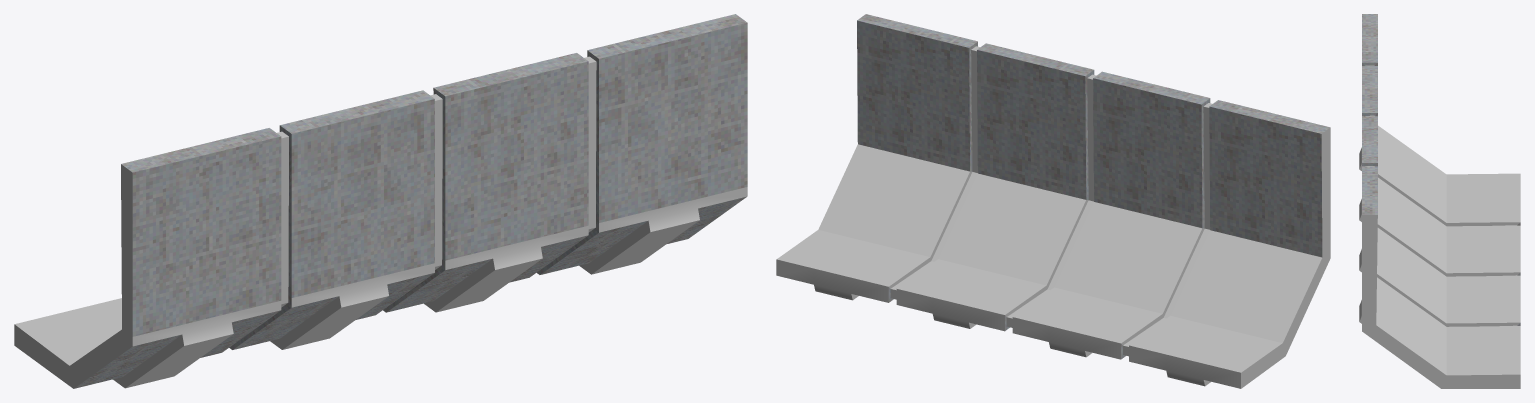
Rendered from shiphullchunk.fbx.
The picture shows the model from 3 angles, left to right: view 1: azimuth 30°, elevation 25°; view 2: azimuth 150°, elevation 25°; view 3: azimuth 270°, elevation 25°; orthographic projection. The views are drawn at different scales.
Parts seen in each view (by area): view 1: geo_shiphullchunk; view 2: geo_shiphullchunk; view 3: geo_shiphullchunk.
Part boxes in pixels (x1,y1,x2,y2): geo_shiphullchunk: [14, 14, 747, 388]; geo_shiphullchunk: [776, 14, 1330, 388]; geo_shiphullchunk: [1359, 14, 1520, 388].
Size of the model in its own units: 15000 by 6288 by 5083.
